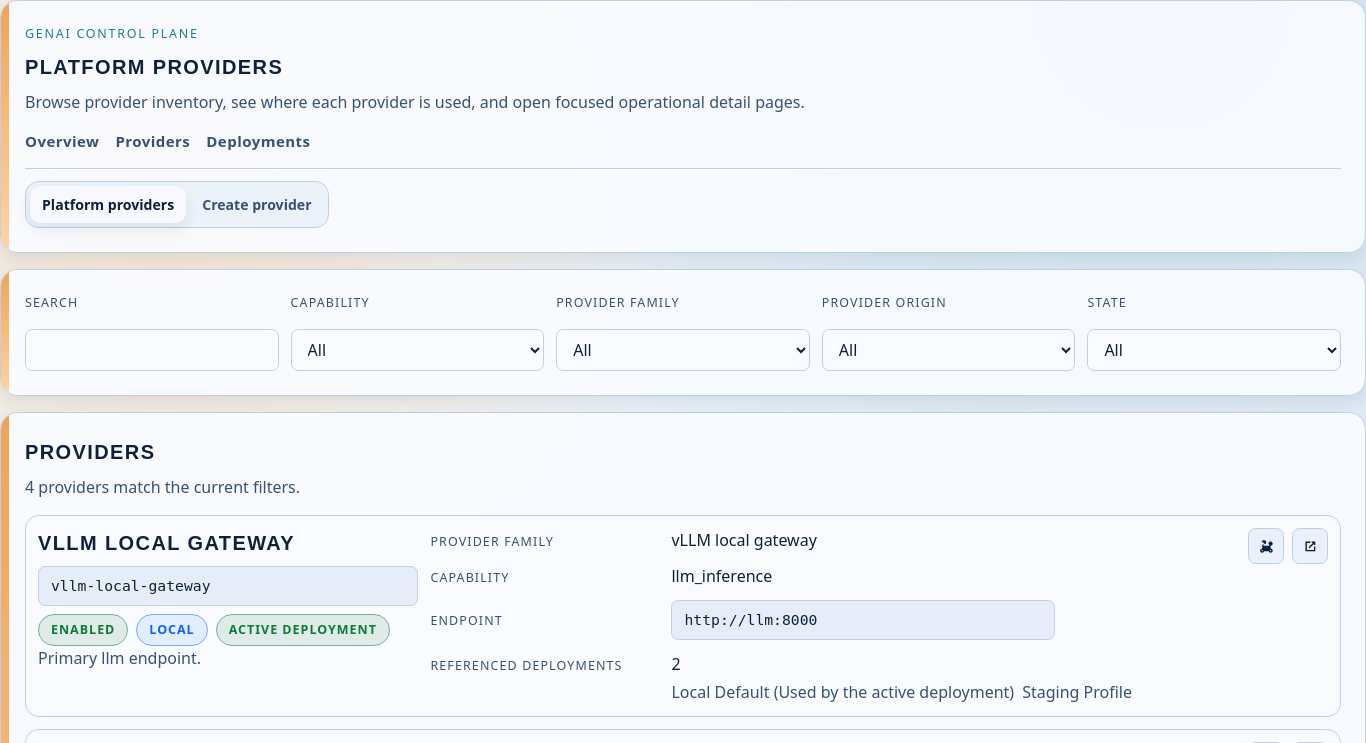
it: PlatformProvidersPage › filters the provider directory by provider origin
This screenshot has width=1366, height=743.
Select "Cloud" in the dropdown labelled "Provider origin" at (949, 350), box 822,329 -> 1075,371
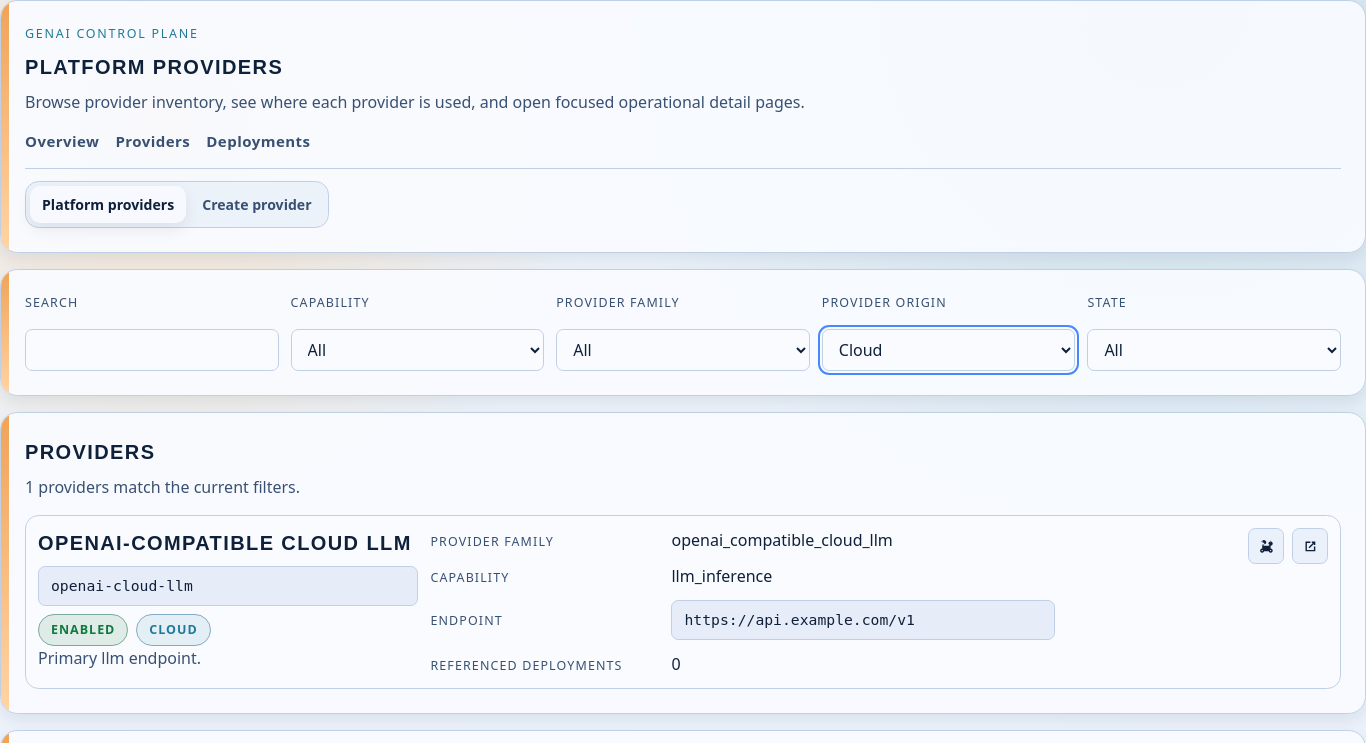
Expected: the heading "OpenAI-compatible cloud LLM" is shown, 38,528 -> 418,558
Expected: the heading "vLLM local gateway" is gone
